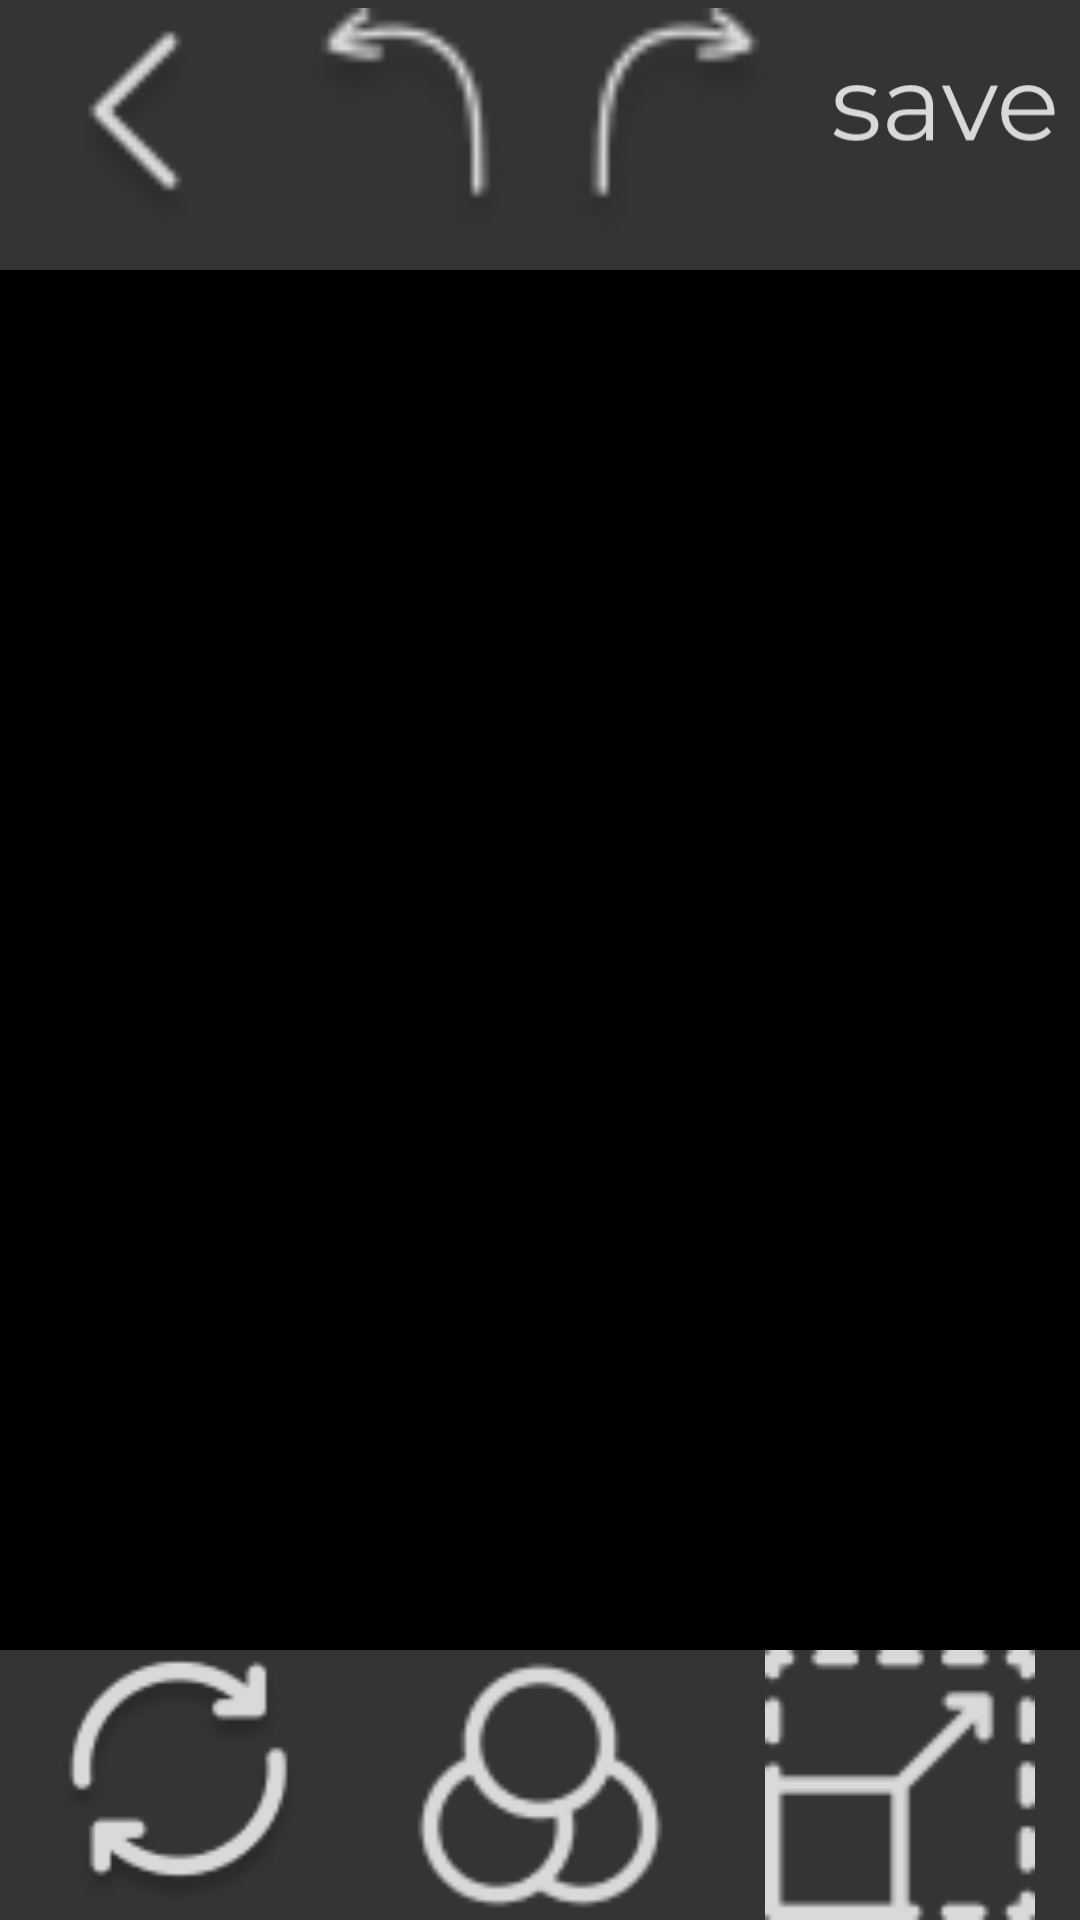

Icon click points for this 1080×1920 phone screenshot, format (x,y):
back: (135,110)
filter: (540,1785)
refresh: (179,1768)
resource return: (406,102)
scale: (900,1785)
unreturn: (674,102)
